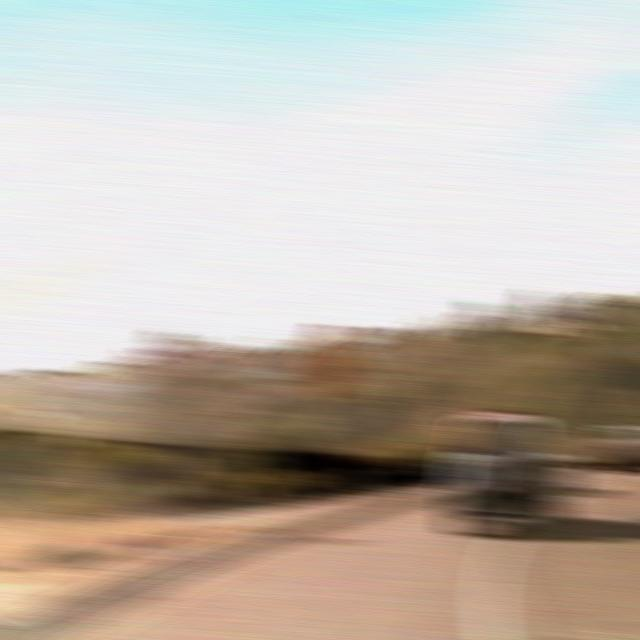yield: (142, 343, 196, 390)
